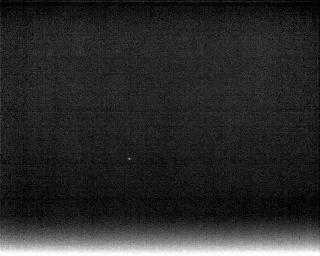AIRPLANE: (126, 154, 133, 163)
